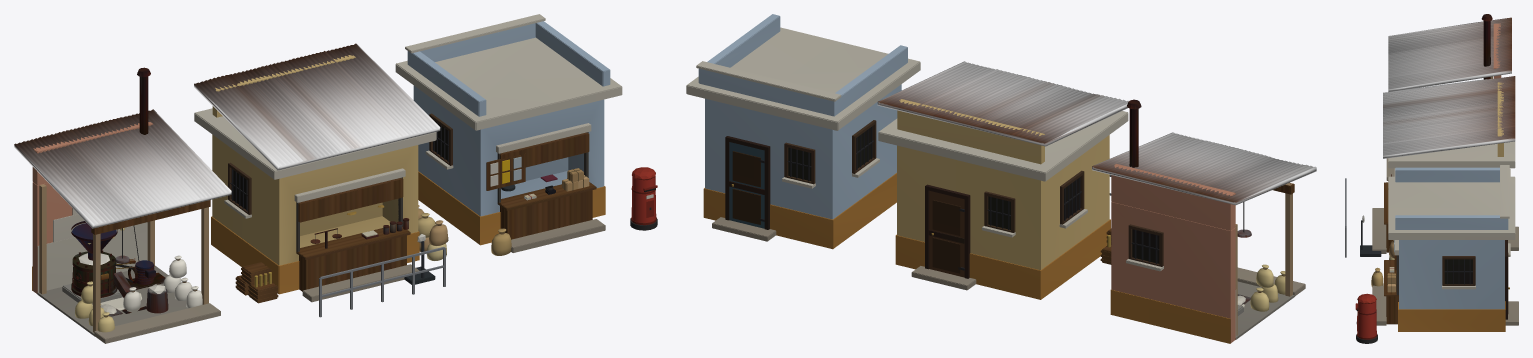
The model's file is new_shops.glb.
The picture shows the model from 3 angles, left to right: view 1: azimuth 30°, elevation 25°; view 2: azimuth 150°, elevation 25°; view 3: azimuth 270°, elevation 25°; orthographic projection. The views are drawn at different scales.
Parts seen in each view (by area): view 1: hb_main, hb_tin, hb_metal, hb_jute; view 2: hb_main, hb_tin, hb_jute, hb_metal; view 3: hb_main, hb_tin, hb_jute, hb_metal.
Boxes of the visible parts, x1,y1,x2,y2 form: hb_main: (32, 14, 657, 343); hb_tin: (14, 43, 440, 228); hb_metal: (71, 67, 409, 316); hb_jute: (75, 168, 589, 332); hb_main: (686, 14, 1305, 343); hb_tin: (877, 61, 1316, 205); hb_jute: (1250, 264, 1285, 311); hb_metal: (1127, 99, 1251, 305); hb_main: (1345, 23, 1518, 343); hb_tin: (1383, 17, 1515, 158); hb_jute: (1371, 240, 1395, 292); hb_metal: (1388, 14, 1492, 189).
Bounding box in the file's own units: 14.21 × 5.01 × 4.92.
